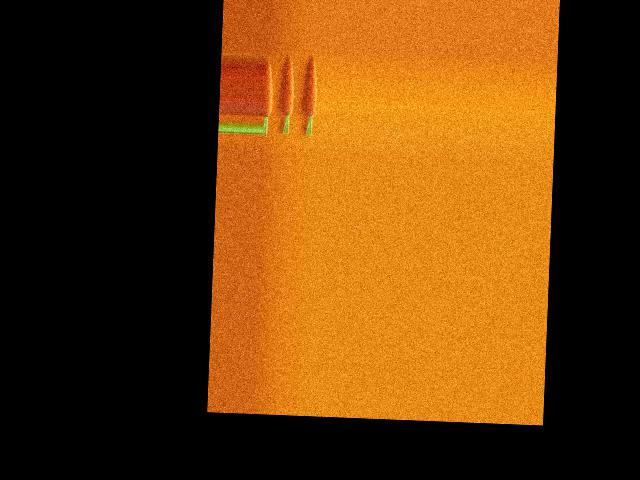carrot: (263, 65, 274, 138)
